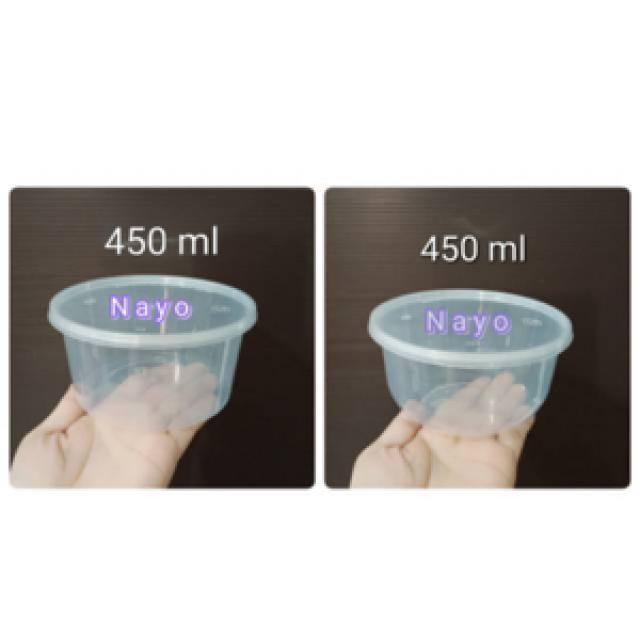plastic cup: (42, 269, 266, 424), (363, 284, 576, 435)
